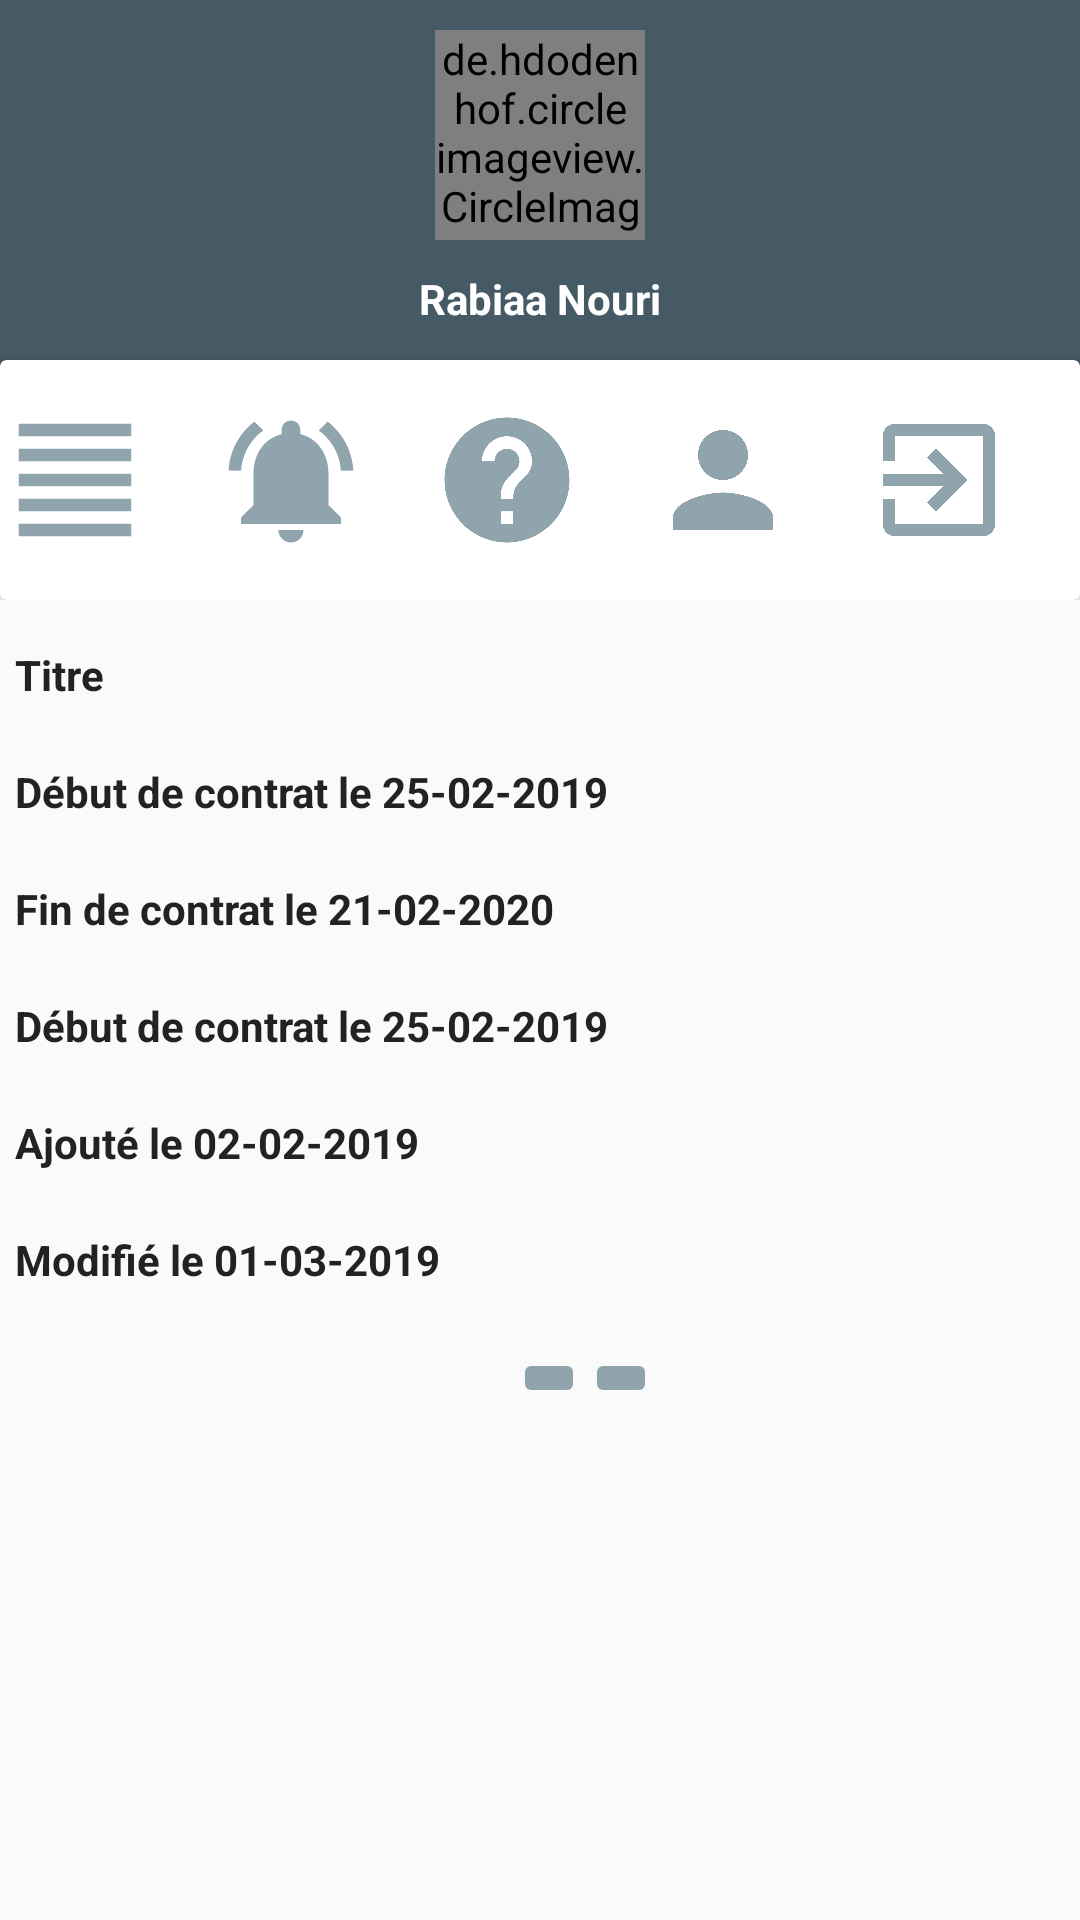

Screen size 1080×1920. Icon name, then its center in pixels as (x=x, y=y):
exit: (x=939, y=480)
help: (x=507, y=480)
menus: (x=66, y=511)
notifications: (x=290, y=481)
person: (x=723, y=480)
